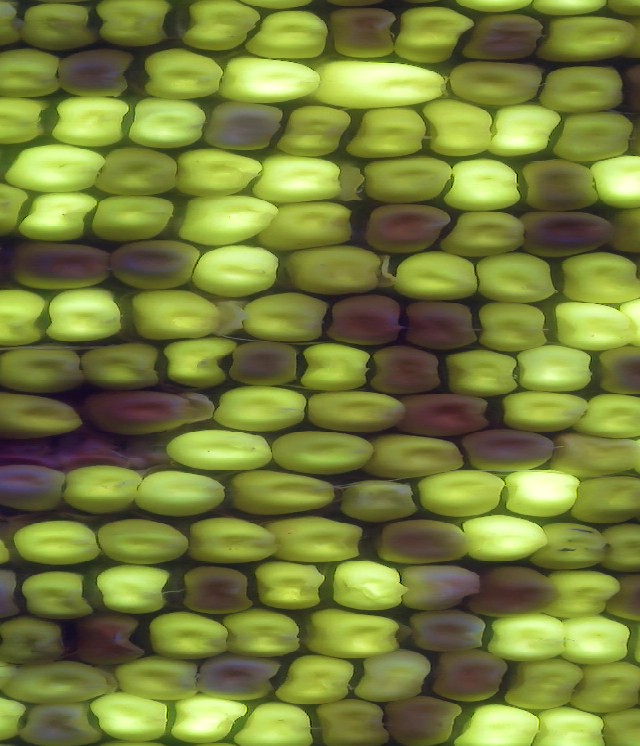fluorescent: (314, 57, 453, 108), (178, 190, 286, 248), (546, 292, 640, 356), (0, 143, 109, 198), (301, 606, 411, 660), (39, 284, 133, 347), (251, 147, 348, 208), (392, 1, 479, 69), (258, 198, 367, 252), (361, 431, 467, 486), (227, 467, 340, 517), (218, 52, 322, 106), (267, 429, 377, 480), (529, 18, 640, 68), (188, 243, 285, 300), (163, 425, 276, 473), (417, 98, 501, 162), (443, 56, 546, 108), (207, 384, 309, 435), (283, 243, 383, 295), (240, 289, 331, 346), (342, 106, 436, 161), (266, 516, 365, 568), (302, 387, 406, 436), (124, 95, 210, 154), (242, 11, 335, 65), (130, 287, 226, 339), (132, 469, 228, 521), (96, 515, 192, 567), (554, 249, 640, 307), (141, 46, 226, 104), (173, 145, 264, 199), (440, 209, 531, 263), (447, 158, 527, 219), (184, 517, 281, 567), (460, 512, 548, 567), (88, 192, 182, 243), (50, 95, 131, 154), (147, 610, 235, 664), (95, 145, 181, 200), (392, 249, 479, 303), (0, 387, 82, 444), (277, 102, 353, 163), (363, 157, 454, 207), (533, 518, 610, 577), (415, 468, 504, 519), (13, 1, 101, 52), (95, 562, 175, 618), (329, 559, 406, 617), (543, 59, 624, 114), (19, 191, 100, 246), (14, 514, 106, 562), (0, 343, 88, 393), (486, 102, 563, 159), (163, 694, 249, 745), (551, 432, 640, 481), (504, 386, 591, 436), (474, 253, 556, 306), (550, 113, 636, 163), (161, 335, 236, 392), (80, 341, 162, 393), (477, 300, 554, 355), (115, 654, 203, 702), (509, 659, 584, 715), (575, 656, 640, 720), (517, 341, 595, 394), (226, 612, 305, 664), (487, 613, 565, 665), (504, 468, 582, 520), (64, 463, 142, 515), (179, 1, 255, 54), (20, 569, 100, 618), (297, 342, 373, 393), (90, 693, 172, 740), (253, 559, 327, 611), (277, 659, 352, 710), (450, 705, 543, 746), (232, 702, 317, 746), (96, 1, 177, 47), (445, 350, 520, 399), (527, 705, 615, 746), (549, 571, 619, 622), (361, 650, 430, 701), (572, 475, 640, 526), (561, 617, 633, 665), (343, 479, 418, 525), (576, 392, 640, 444), (0, 283, 46, 355), (0, 44, 63, 95), (589, 153, 640, 214), (0, 93, 51, 150), (597, 522, 640, 578), (602, 207, 640, 253), (602, 710, 640, 746)
nonfluorescent: (7, 236, 116, 292), (508, 206, 617, 261), (84, 388, 198, 435), (360, 200, 450, 258), (468, 564, 559, 621), (399, 297, 483, 358), (109, 238, 203, 291), (460, 425, 561, 474), (199, 101, 286, 156), (399, 564, 489, 617), (56, 45, 146, 98), (378, 518, 471, 567), (398, 610, 496, 656), (179, 563, 262, 617), (428, 648, 509, 703), (197, 651, 282, 703), (462, 12, 548, 62), (327, 294, 406, 348), (396, 393, 490, 438), (367, 343, 443, 396), (232, 334, 303, 390), (386, 695, 463, 746), (74, 614, 145, 668), (329, 12, 402, 63), (0, 464, 70, 513), (598, 347, 640, 394), (608, 574, 640, 623)
